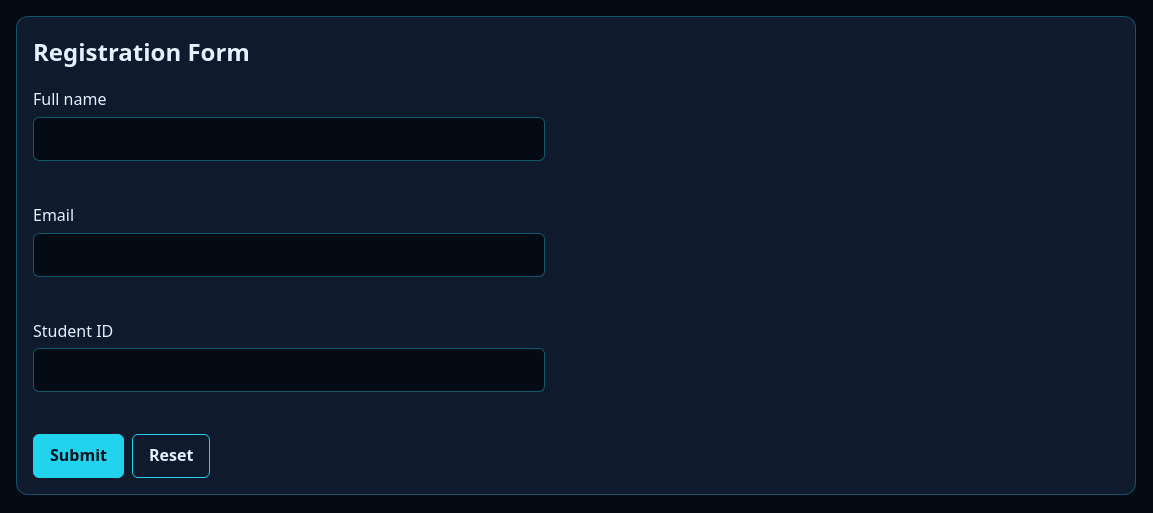
SimpleForm › blocks an invalid submit and shows every error
Click the button "Submit" at (78, 456), box [33,434,124,478]
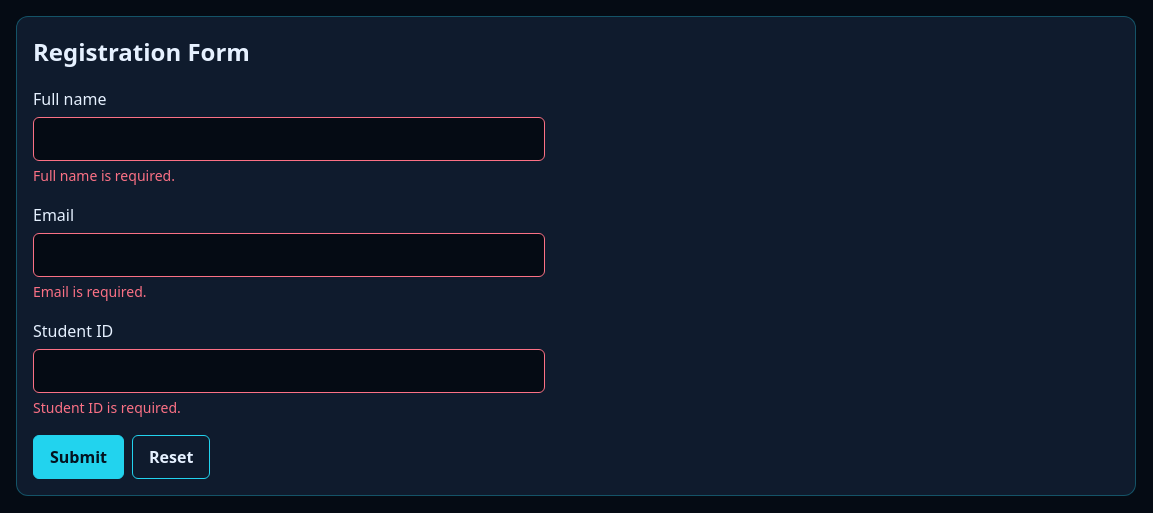
Expected: the number of messages is 3, [33,166,175,185]; [33,282,147,301]; [33,398,181,417]
